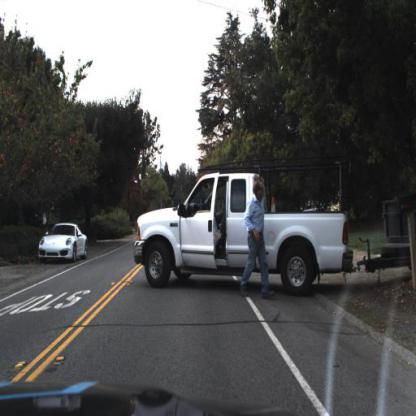car: (35, 212, 90, 267)
pedestrian: (231, 183, 272, 299)
truck: (123, 161, 416, 321)
